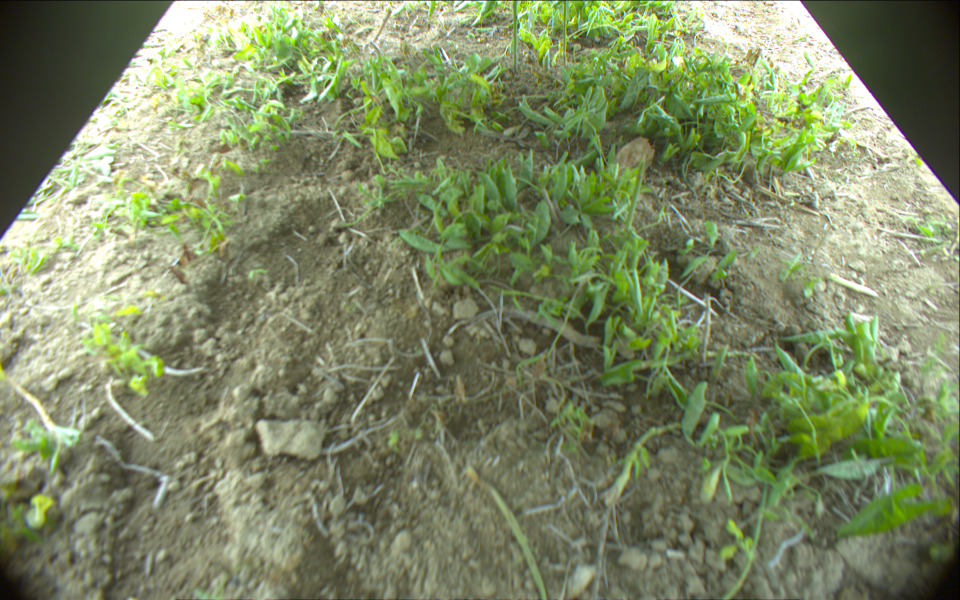aspa: (513, 1, 520, 72), (562, 1, 570, 63)
